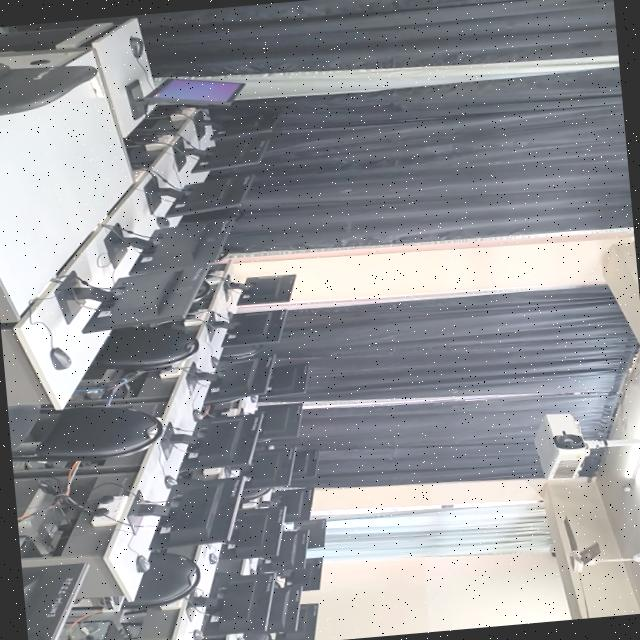Chair: (6, 401, 161, 462), (89, 325, 197, 371), (0, 64, 96, 115), (122, 552, 198, 609)
Cpu: (67, 622, 108, 640)
Light: (623, 445, 640, 478)
Monitor: (81, 267, 204, 334), (149, 477, 243, 549), (124, 219, 229, 274), (20, 563, 85, 640), (179, 414, 261, 471), (199, 573, 272, 637), (145, 175, 251, 217), (187, 355, 273, 403), (219, 507, 283, 559), (174, 140, 268, 173), (222, 310, 285, 347), (240, 447, 295, 489), (195, 112, 278, 139), (148, 79, 242, 102), (225, 274, 293, 305), (258, 530, 306, 572), (257, 403, 301, 441), (259, 363, 307, 397), (274, 604, 317, 640), (267, 586, 299, 633), (280, 557, 322, 591), (272, 488, 313, 522), (289, 449, 317, 486), (294, 519, 324, 548)
Mouse: (49, 348, 70, 370), (129, 36, 142, 57), (135, 555, 149, 573), (156, 216, 169, 228), (164, 475, 176, 487), (191, 409, 205, 419), (191, 630, 203, 640), (209, 553, 218, 563)
Projector: (533, 413, 587, 479)
